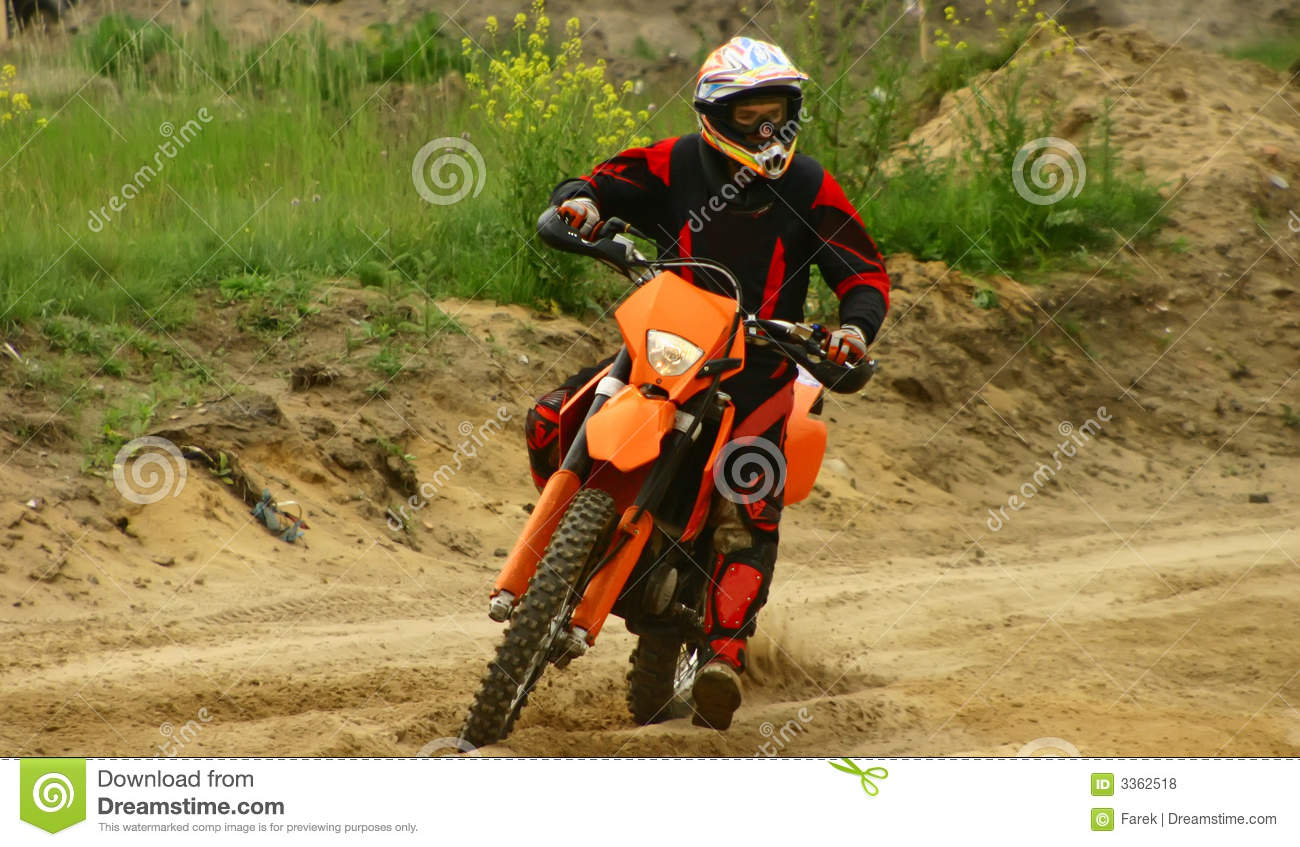helmet: (685, 28, 807, 174)
